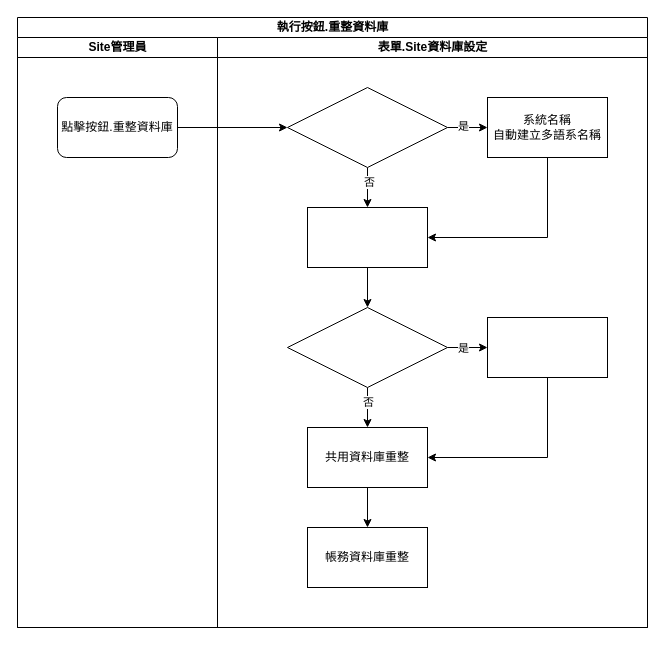
This 665x645 diagram has some shape labels left out. The centre of each missing label's shape, as x and y in pixels:
Site資料庫 原版本 < 8.10.0: point 367,127
Site資料庫重整: point 367,237
共用資料庫 原版本 < 8.10.0: point 367,347
帳務名稱 自動建立多語系名稱: point 547,347
